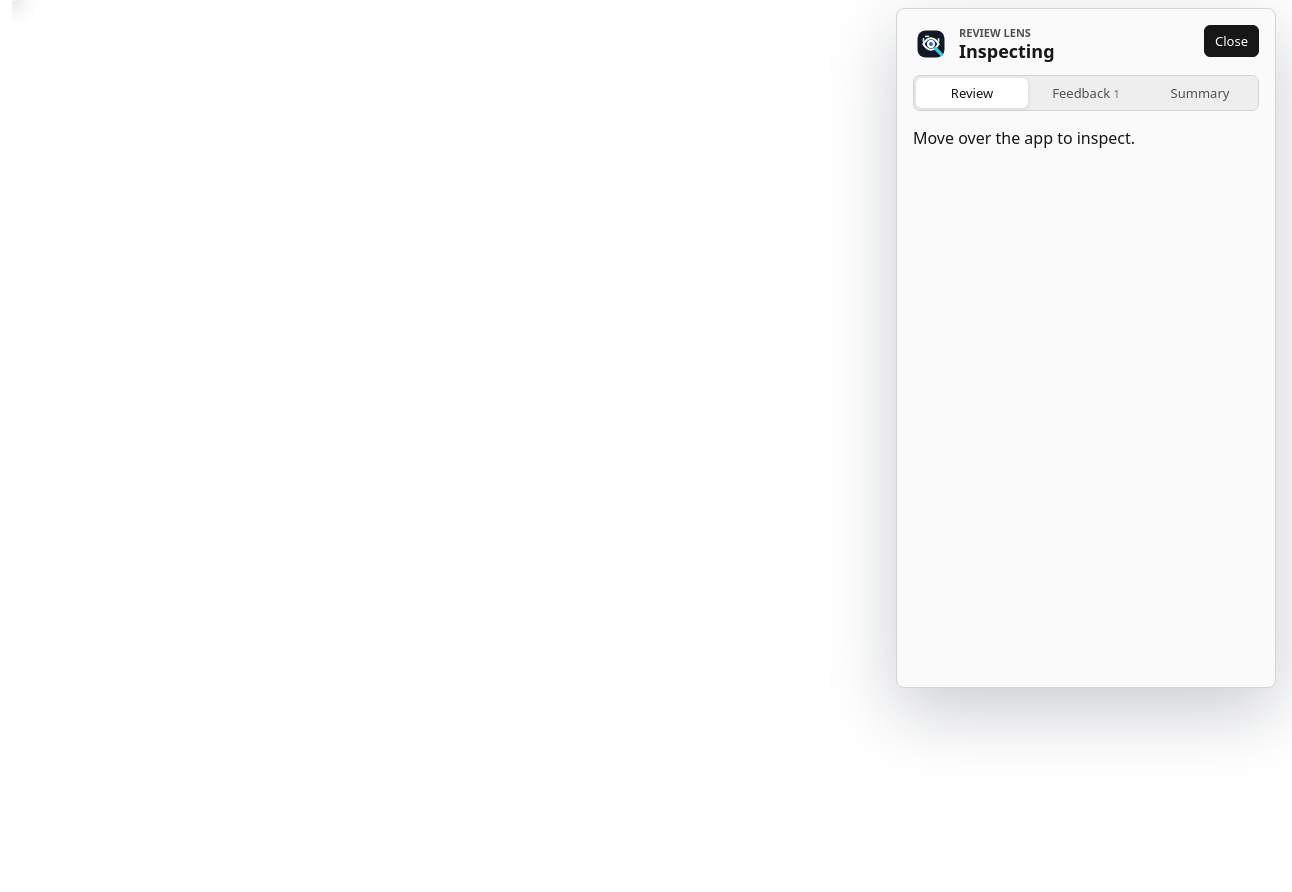
ReviewLensOverlay › syncSelectionToUrl › shows a Copy link button on the selected feedback detail when syncSelectionToUrl is enabled
(page scrolled)
What coordinates should you click on to do the following:
click the tab "Feedback 1"
I would click on:
 (1086, 92)
Its box is [1030, 78, 1142, 108].
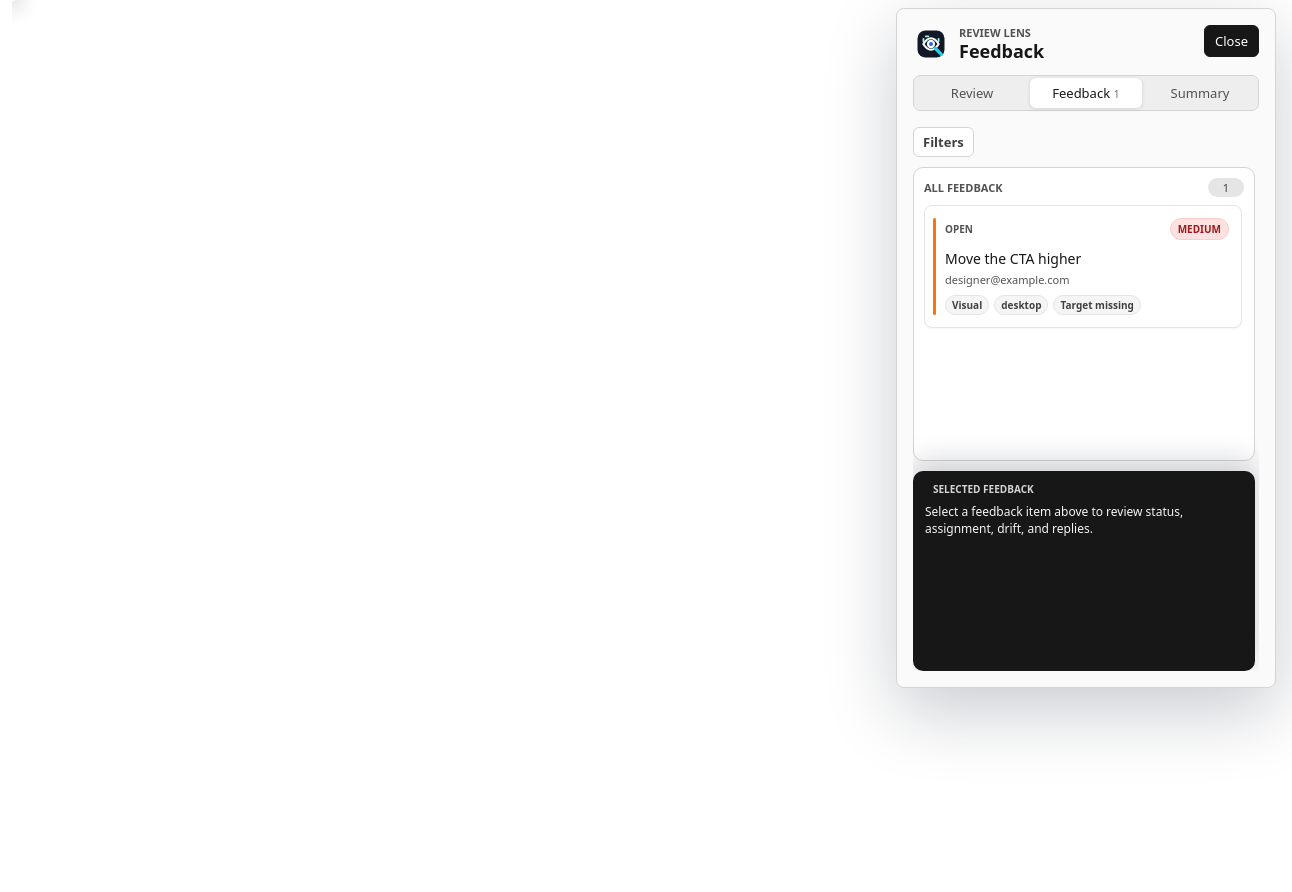
What coordinates should you click on to do the following:
click the text "Move the CTA higher"
I would click on:
 (1013, 258)
Its box is [945, 248, 1081, 268].
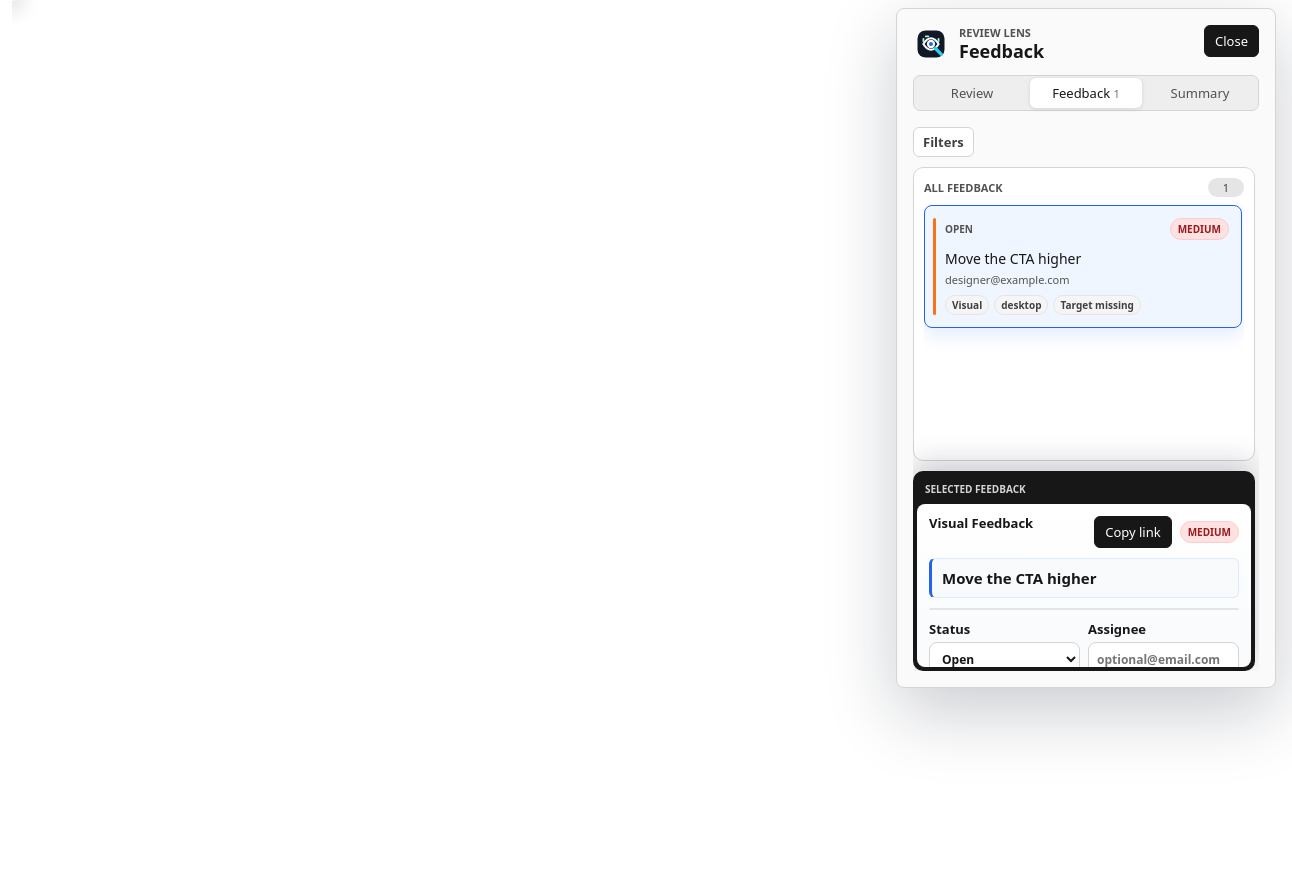
Result: the button with aria-label "Copy link to this feedback" is shown at [1094, 516, 1172, 548]
